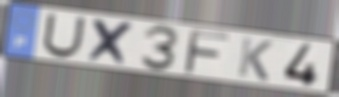3: (140, 24, 181, 72)
4: (282, 41, 320, 90)
F: (181, 27, 232, 76)
K: (235, 35, 275, 83)
U: (40, 12, 88, 59)
X: (85, 17, 139, 68)
